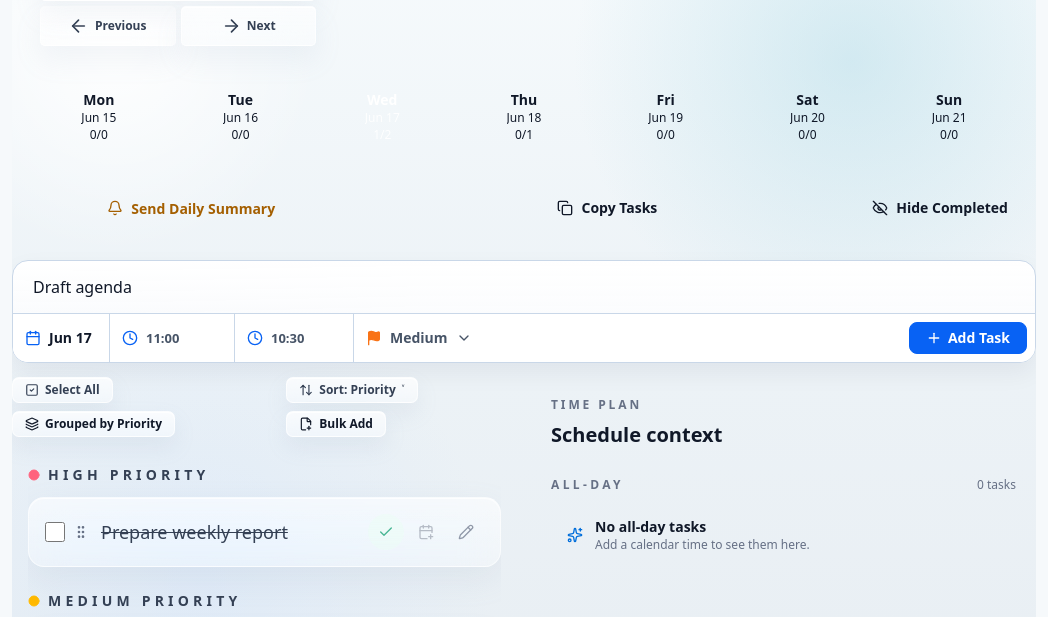
Test: AdminView › blocks invalid composer time ranges with accessible feedback
(page scrolled)
Click the button "Add Task": [968, 338] box [909, 322, 1027, 354]
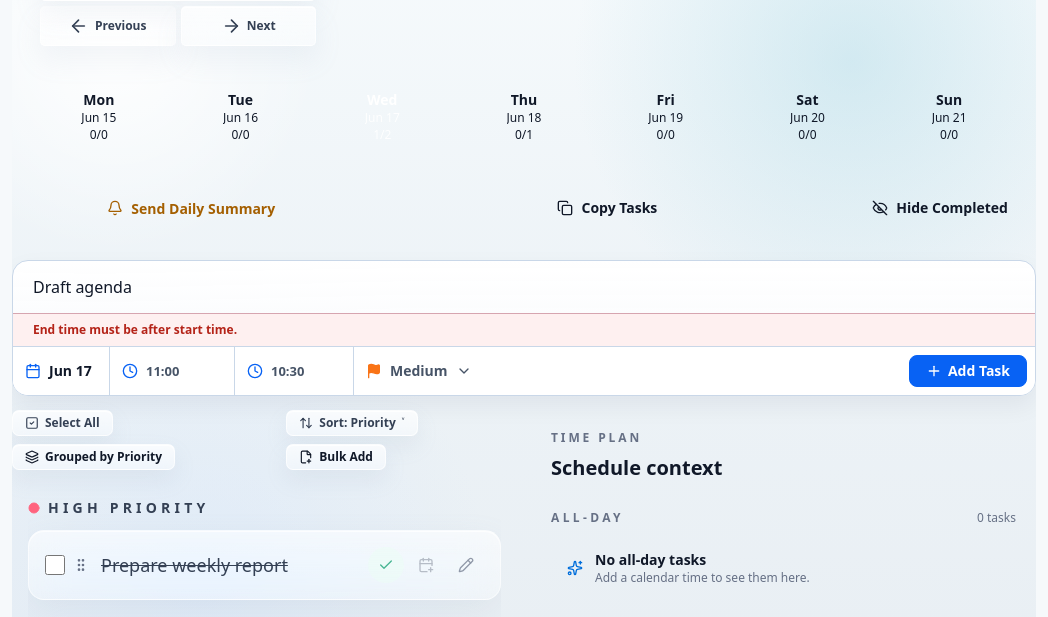
Now the message reads "End time must be after start time.", box [33, 321, 237, 338]
